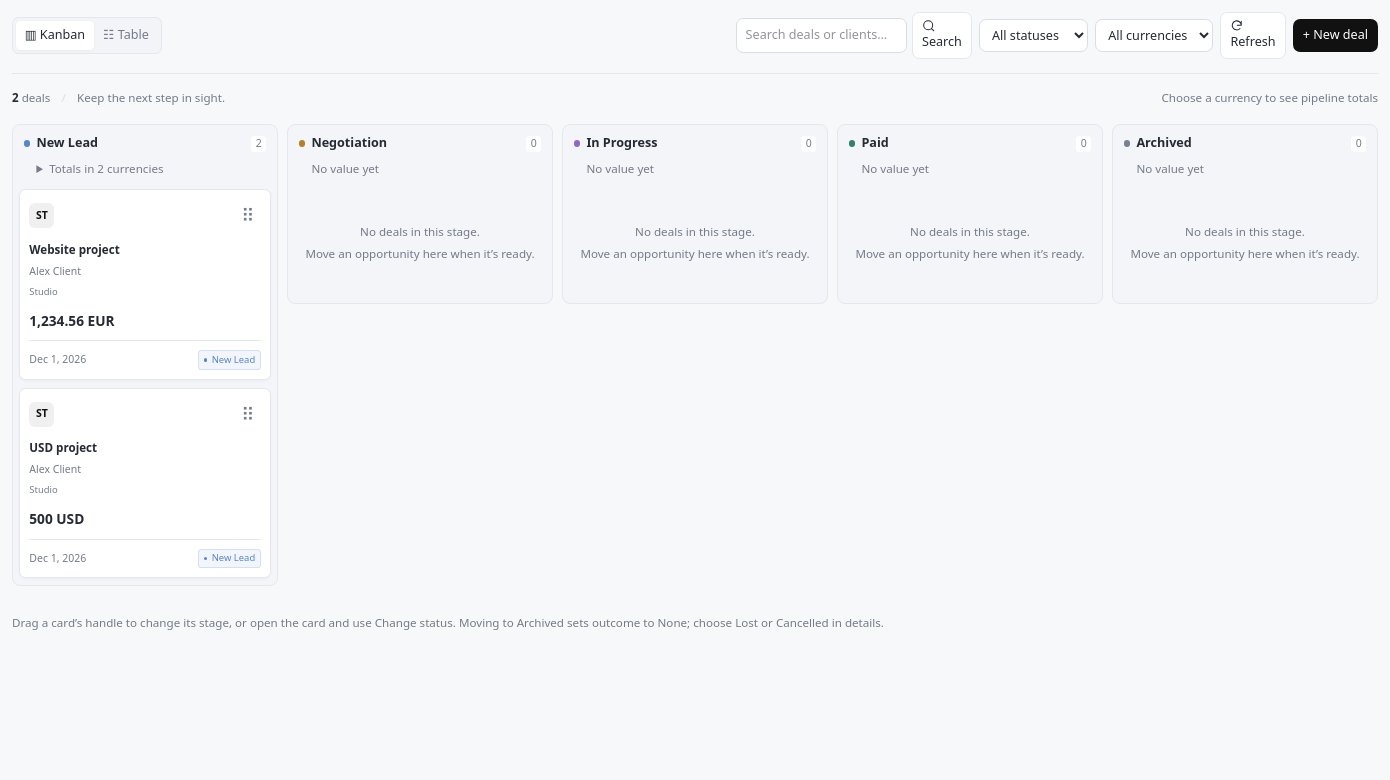
Test case: keeps multiple column currencies separate and collapsed until requested
The width and height of the screenshot is (1390, 780).
Click the heading "Totals in 2 currencies" at {"x": 106, "y": 169}, box [49,161,164,176]
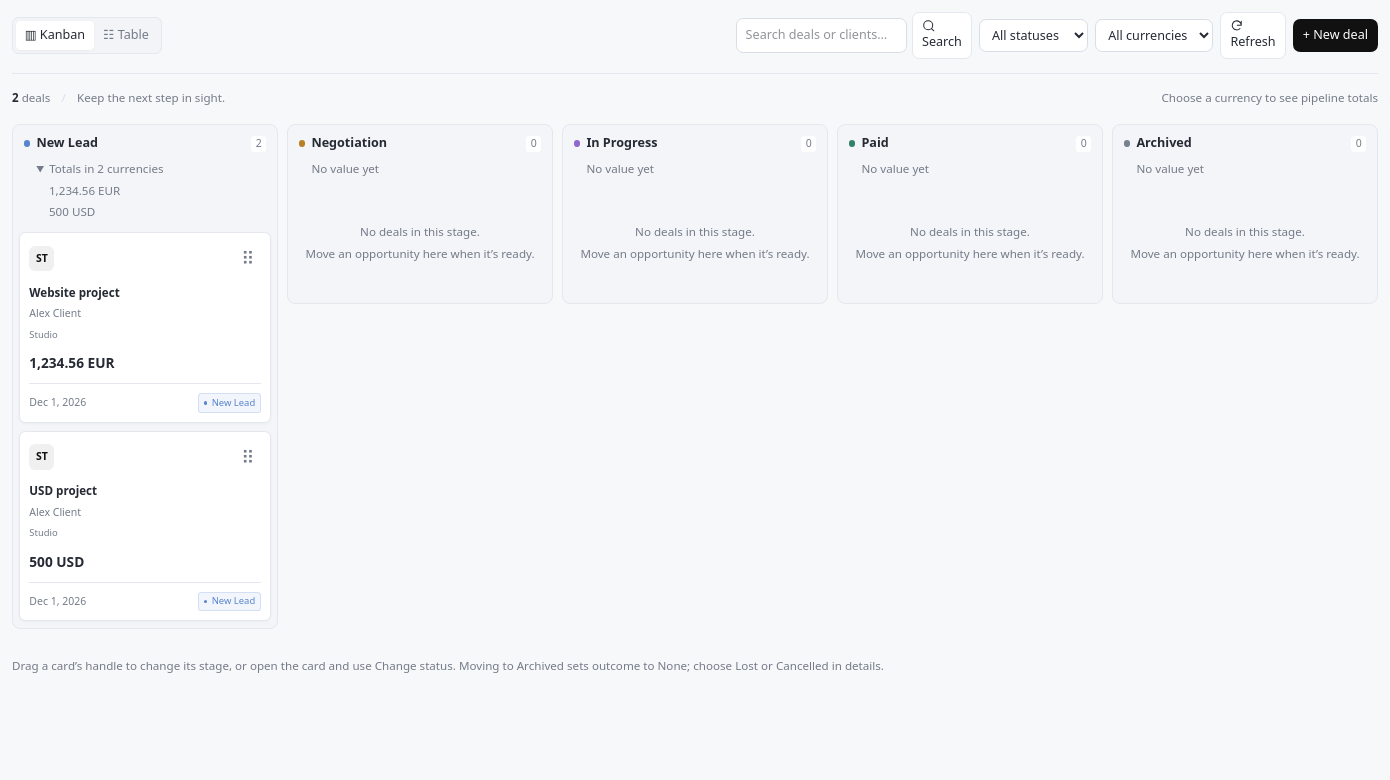
Result: the list item "1,234.56 EUR" is shown at [49,183,120,198]
Result: the list item "500 USD" is shown at [49,204,95,219]
